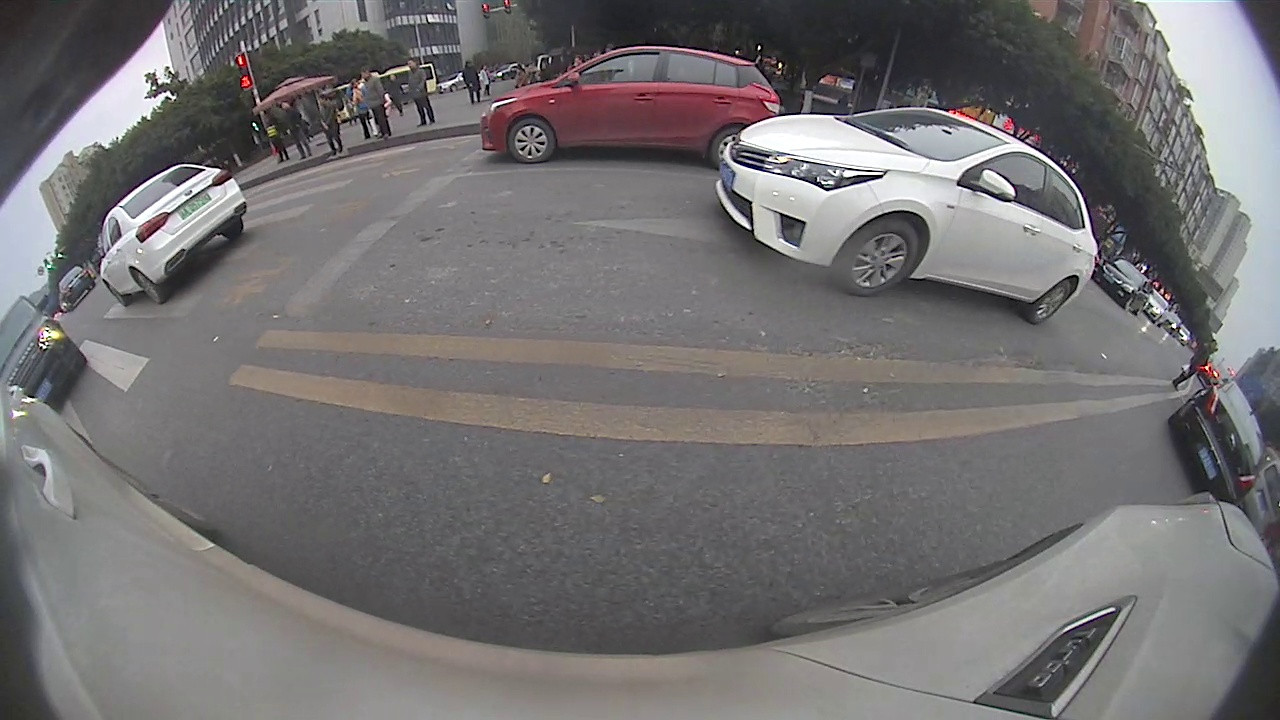car: (712, 106, 1100, 326), (479, 44, 780, 170), (98, 163, 249, 312), (1166, 377, 1264, 505), (0, 293, 89, 410), (1091, 258, 1153, 317)
front: (836, 217, 923, 300), (507, 116, 557, 169)
person: (360, 67, 393, 141)
rear: (1026, 280, 1074, 327), (131, 267, 163, 306)
